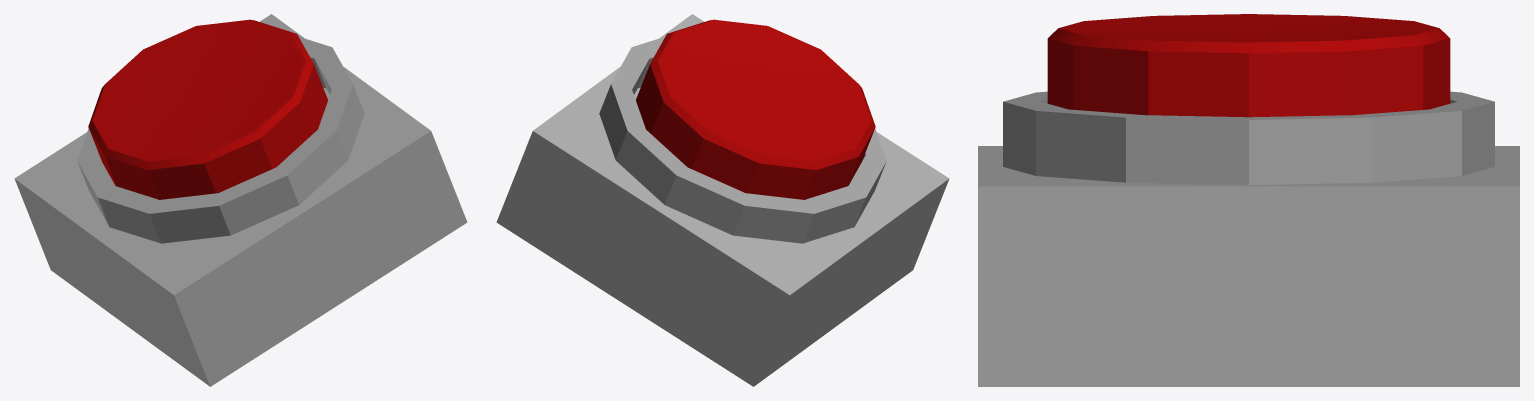
The model's file is SM_Bouton.fbx.
3 renders of one model, left to right at view 1: azimuth 30°, elevation 25°; view 2: azimuth 150°, elevation 25°; view 3: azimuth 270°, elevation 25°, orthographic. The views are drawn at different scales.
Parts seen in each view (by area): view 1: polySurface2, polySurface1; view 2: polySurface2, polySurface1; view 3: polySurface2, polySurface1.
Boxes of the visible parts, x1,y1,x2,y2 form: polySurface2: (14,14,467,386); polySurface1: (88,19,327,199); polySurface2: (496,14,949,386); polySurface1: (636,19,875,199); polySurface2: (978,91,1519,386); polySurface1: (1047,14,1450,117).
Bounding box in the file's own units: 2.86 × 2.39 × 2.69.
